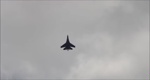maybay_muctieu: (61, 33, 76, 51)
